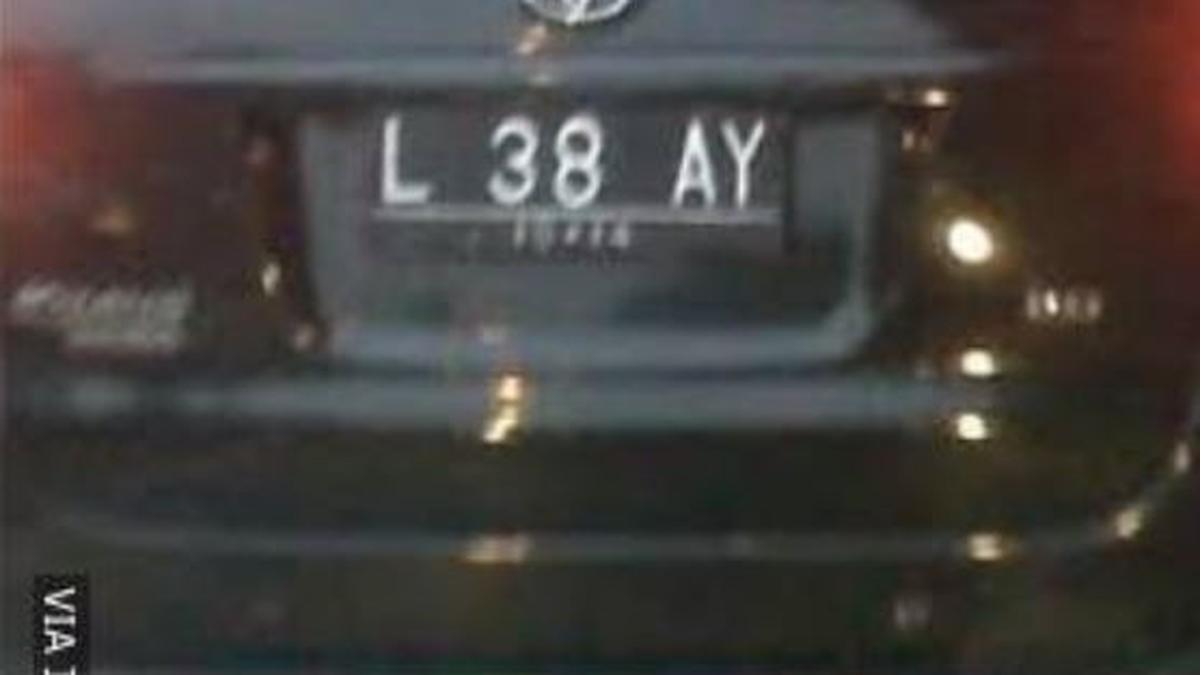plate: (365, 104, 785, 259)
